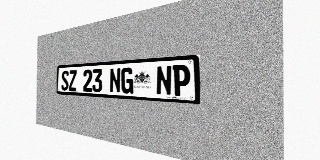2: (83, 69, 92, 92)
3: (92, 69, 102, 92)
G: (121, 67, 133, 94)
N: (156, 65, 172, 96), (109, 68, 121, 93)
P: (173, 64, 190, 97)
S: (61, 70, 69, 91)
Z: (69, 70, 77, 91)
